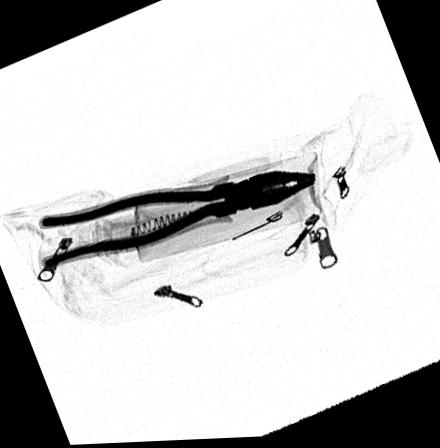Pliers: (39, 172, 317, 265)
